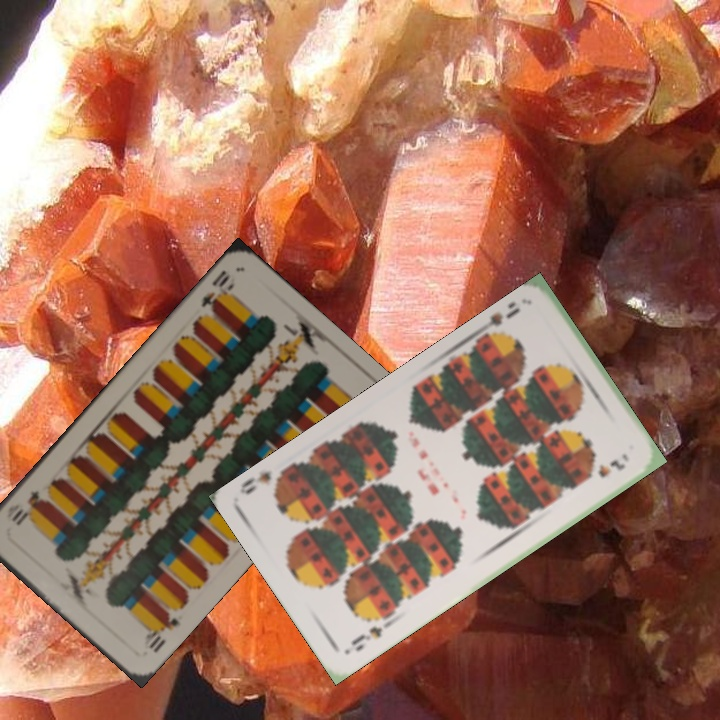E10: (140, 608, 182, 656), (197, 266, 238, 315)
S9: (347, 612, 395, 655), (476, 303, 523, 344)
